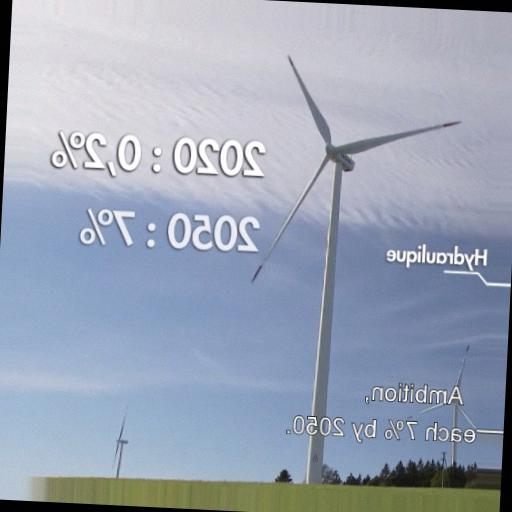wind turbine: (246, 55, 463, 484)
